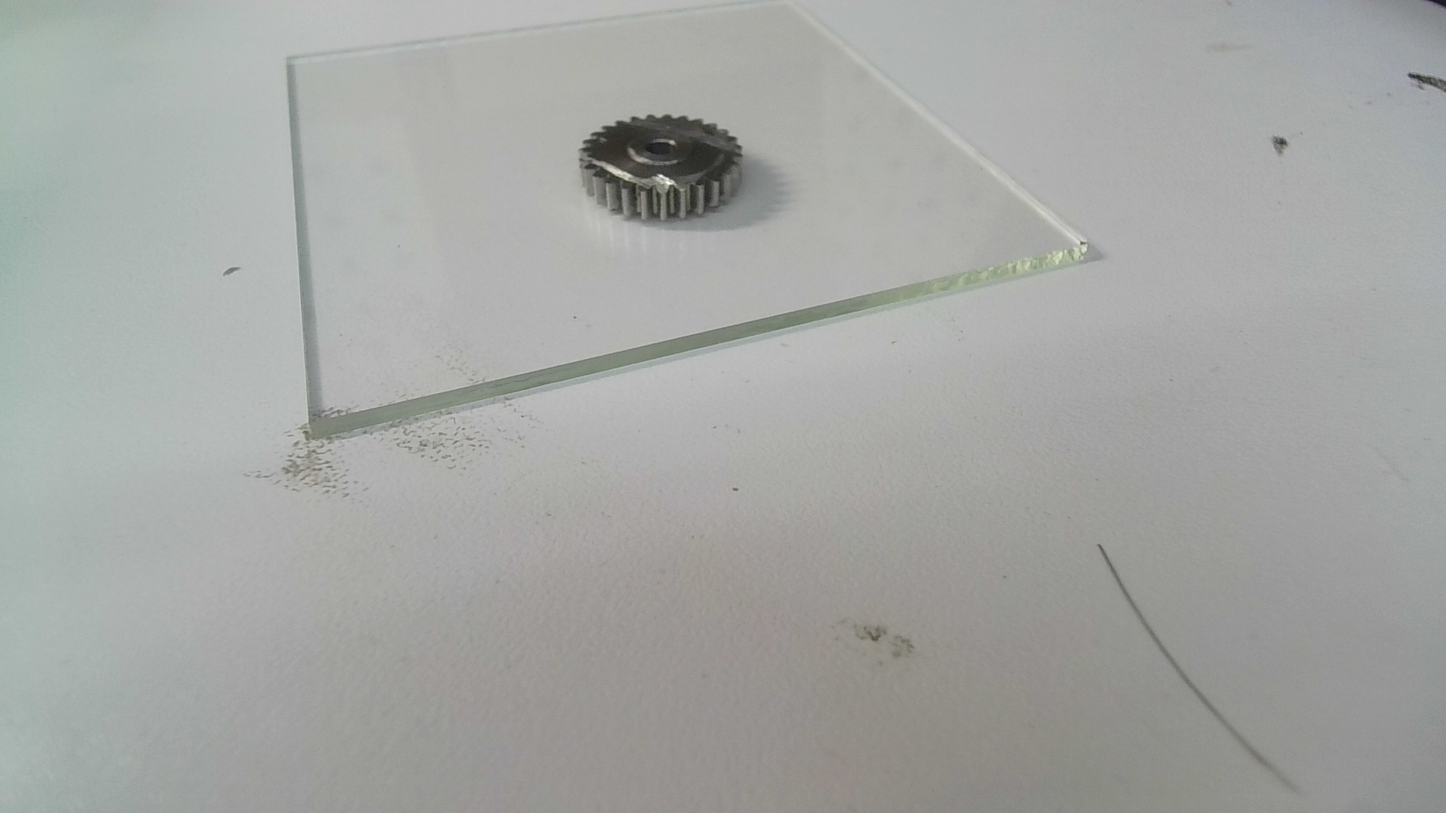gear: (574, 111, 748, 227)
